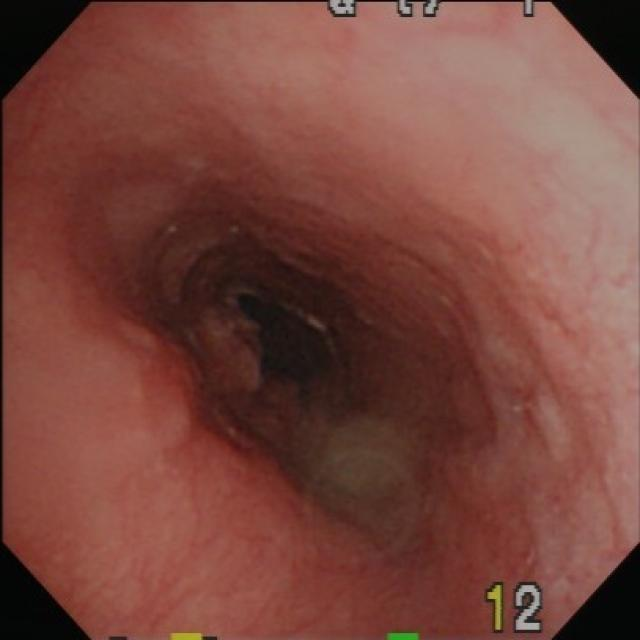A: (440, 340, 573, 550)
B: (130, 324, 298, 499), (194, 296, 273, 390)
E: (226, 289, 347, 395)
J: (303, 408, 414, 499)
S: (325, 3, 545, 20), (485, 581, 547, 636)
